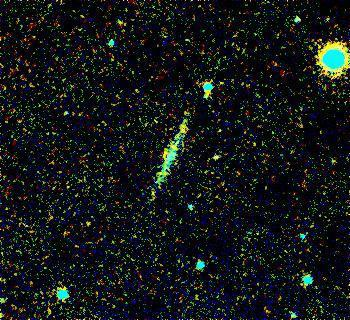star: (170, 117, 200, 147)
